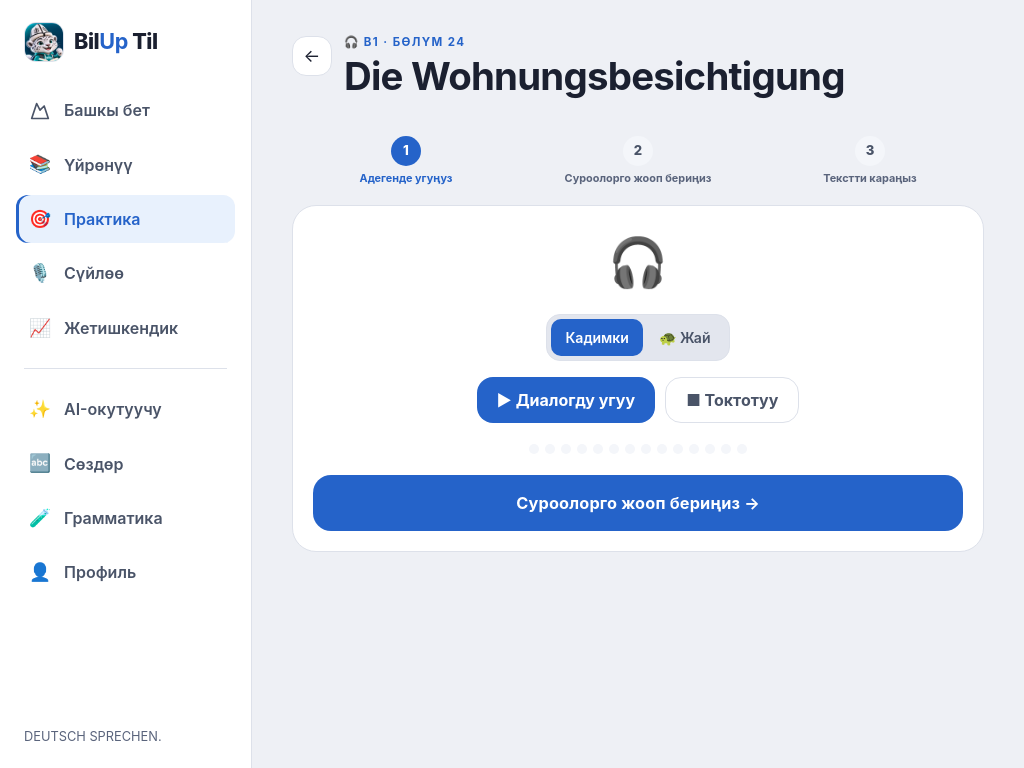
Test: reading and listening flows › ky: the listening shows the transcript only through the existing flow and offers the questions
Click the button "Суроолорго жооп бериңиз →".
click(638, 503)  # box [313,475,963,531]
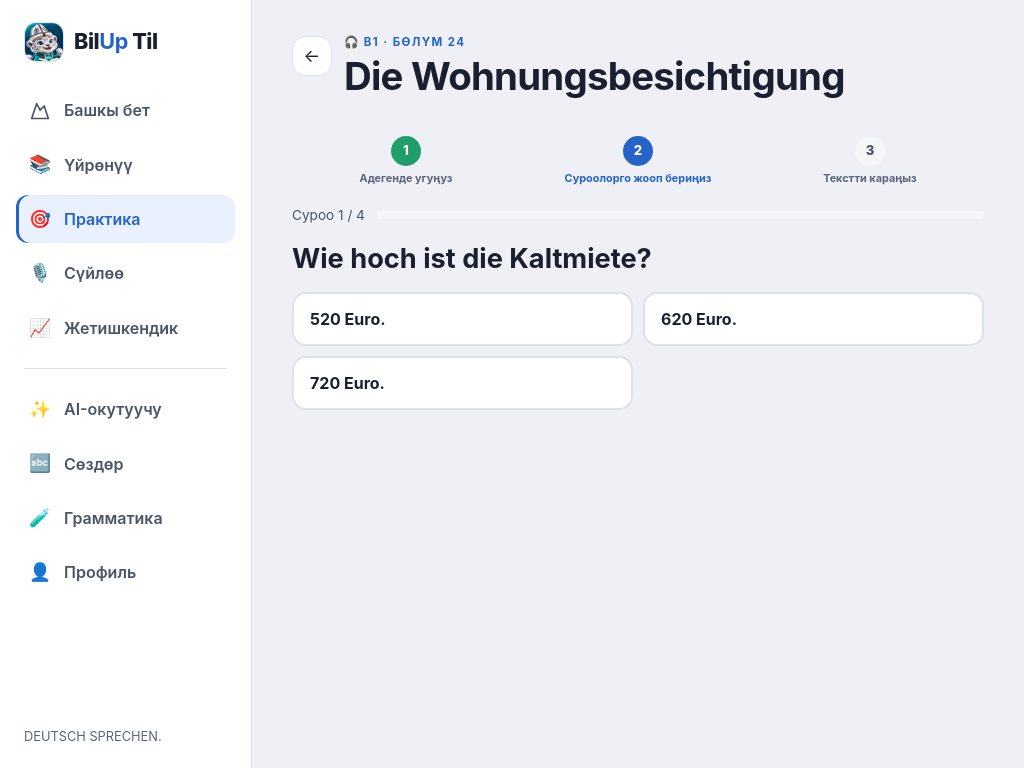
Expected: the text "Wie hoch ist die Kaltmiete?" is shown, [292,241,652,278]
